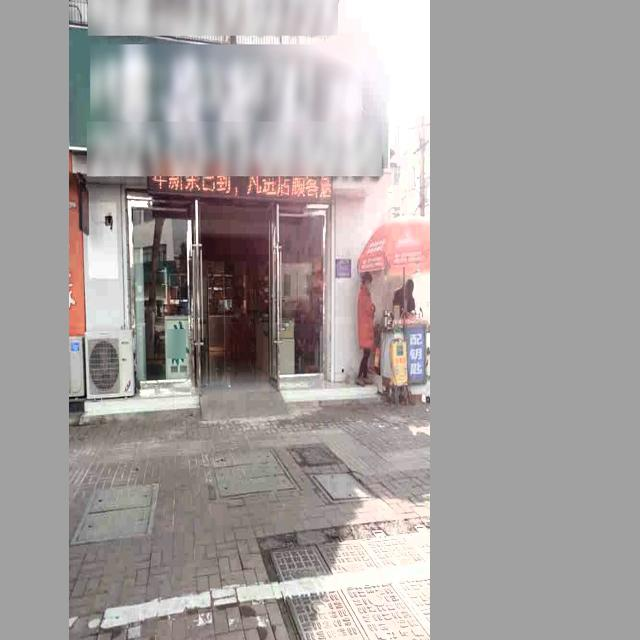good: (259, 523, 430, 640), (206, 444, 302, 498), (69, 483, 158, 540)
